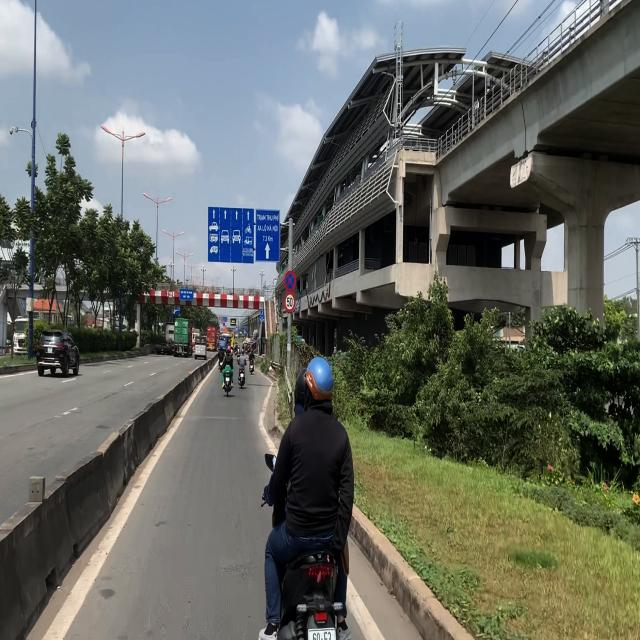Cam dung va do: (284, 270, 296, 292)
Toc do toi da: (284, 293, 295, 311)
